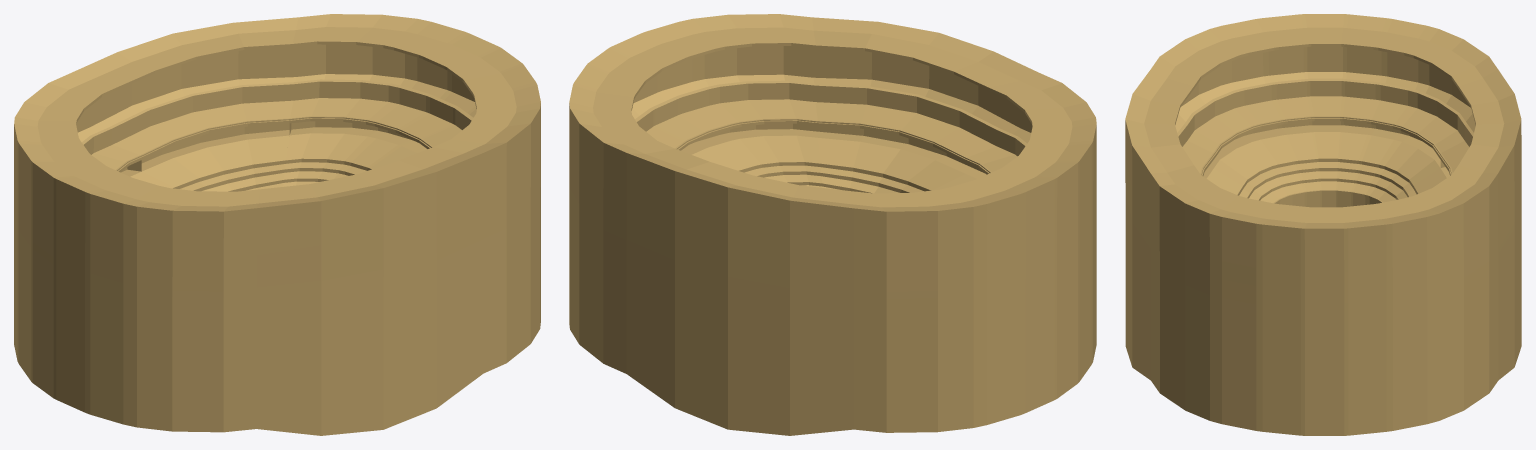
File: collosuemtest3.fbx
3 renders of one model, left to right at view 1: azimuth 30°, elevation 25°; view 2: azimuth 150°, elevation 25°; view 3: azimuth 270°, elevation 25°, orthographic. The views are drawn at different scales.
Parts seen in each view (by area): view 1: Cube; view 2: Cube; view 3: Cube.
Part boxes in pixels (x1,y1,x2,y2): Cube: (14, 14, 540, 435); Cube: (569, 14, 1096, 435); Cube: (1125, 14, 1521, 435).
Size of the model in its own units: 2061 by 1016 by 1608.
